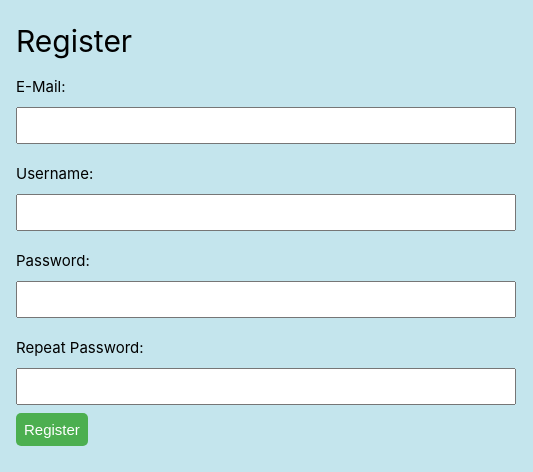
Test: Register.vue › shows error message from server
Step 1. Type "existinguser" into the field with id "username" → (266, 212), box x1=16 y1=194 x2=516 y2=230
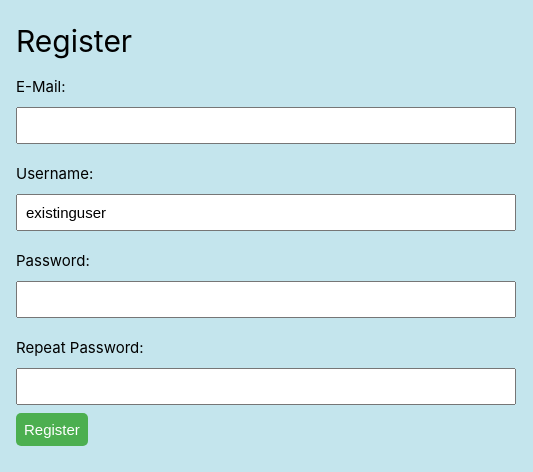
Step 2. Type "user@example.com" into the field with id "email" → (266, 125), box x1=16 y1=106 x2=516 y2=144
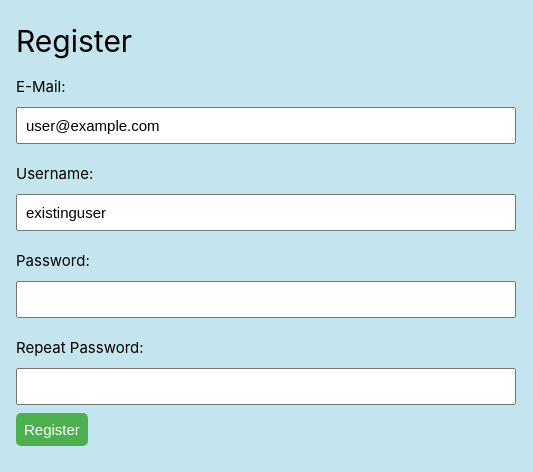
Step 3. Type "password" into the password field labelled "Password:" → (266, 299), box x1=16 y1=280 x2=516 y2=318
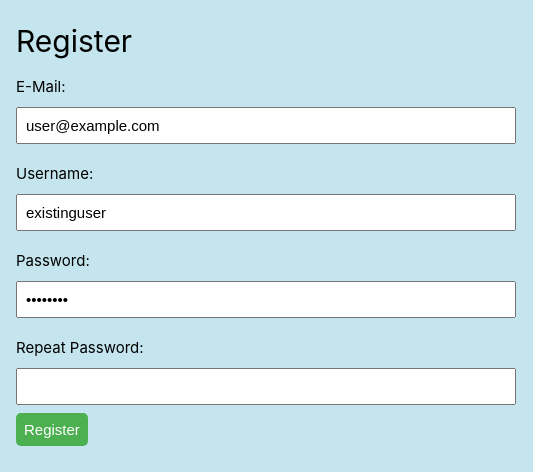
Step 4. Type "password" into the password field with id "repeatPassword" → (266, 386), box x1=16 y1=368 x2=516 y2=404
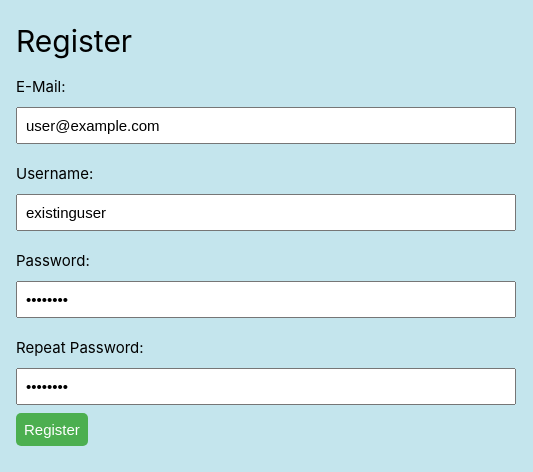
Step 5. Submit the form
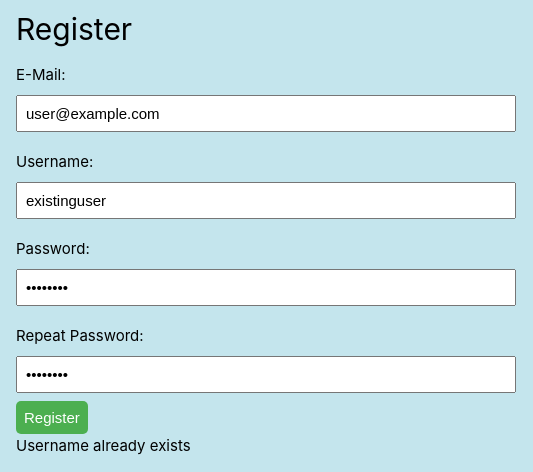
Expected: the text "Username already exists" is shown, x1=16 y1=436 x2=191 y2=454
